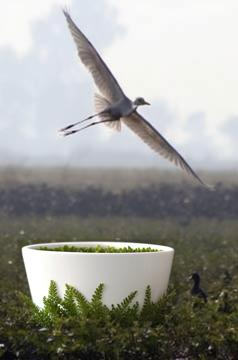bird: (58, 10, 216, 193)
pottedplant: (17, 239, 178, 327)
